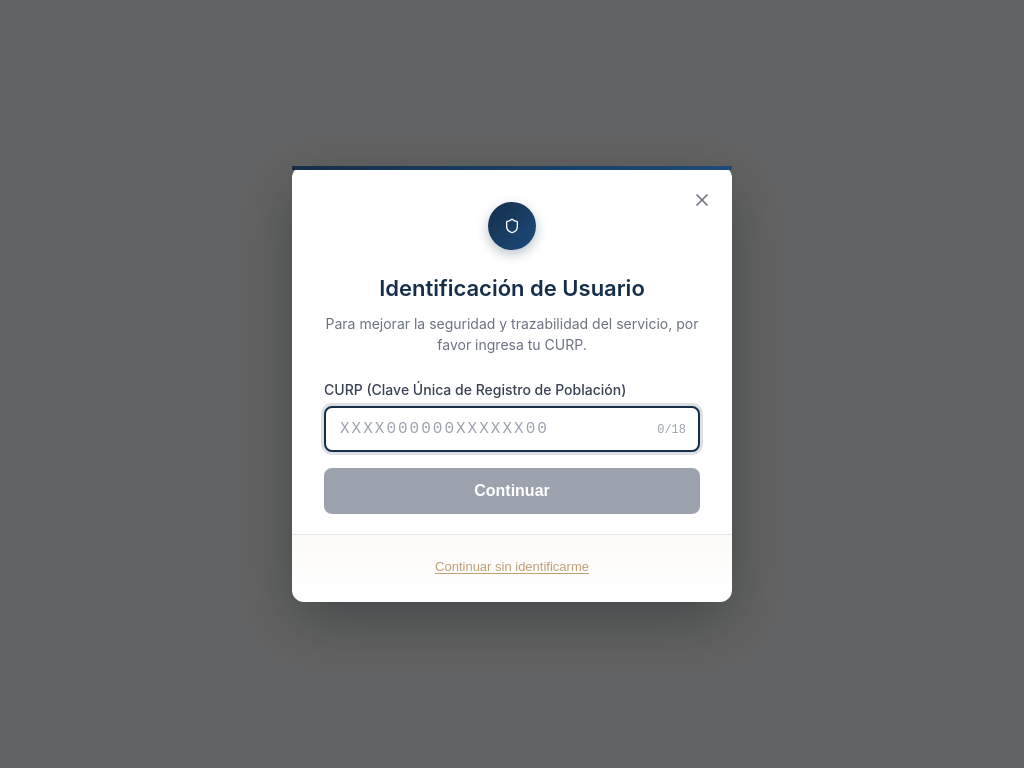
CurpModal › should convert input to uppercase and filter invalid characters
The image size is (1024, 768).
In the field with placeholder "XXXX000000XXXXXX00": (512, 429) [324,406,700,452], type "garc-850101-hdfrrl09!"
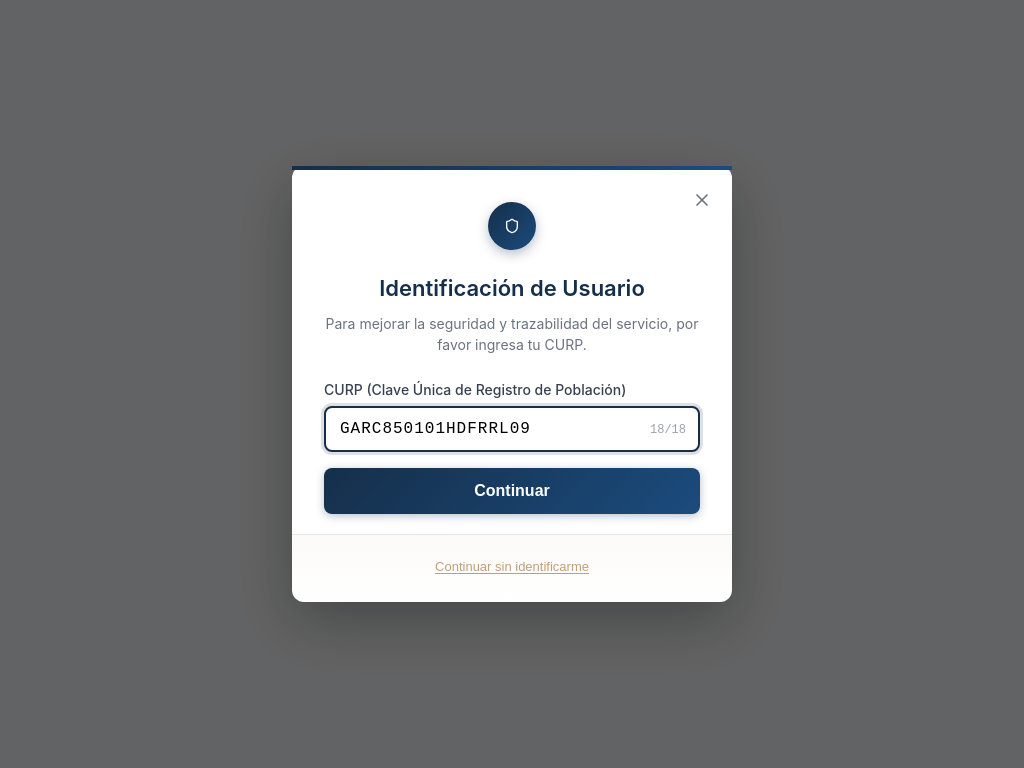
Expected: the field with placeholder "XXXX000000XXXXXX00" holds "GARC850101HDFRRL09", [324,406,700,452]
